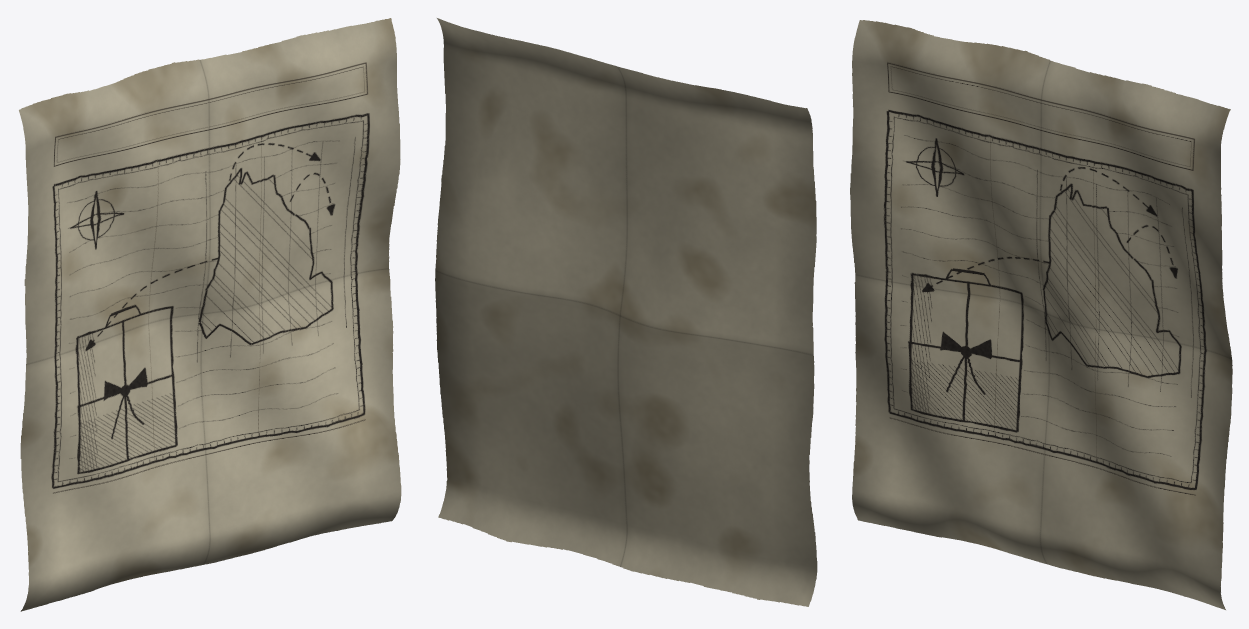
File: periodico_6.glb
The picture shows the model from 3 angles, left to right: view 1: azimuth 30°, elevation 25°; view 2: azimuth 150°, elevation 25°; view 3: azimuth 330°, elevation 25°; orthographic projection.
Parts seen in each view (by area): view 1: Hoja_frente; view 2: Hoja_reverso; view 3: Hoja_frente.
Part boxes in pixels (x1,y1,x2,y2): Hoja_frente: (19,18,401,611); Hoja_reverso: (435,18,817,606); Hoja_frente: (850,20,1232,609).
Bounding box in the file's own units: 0.304 × 0.392 × 0.0249.
2 materials, 2 textured.
